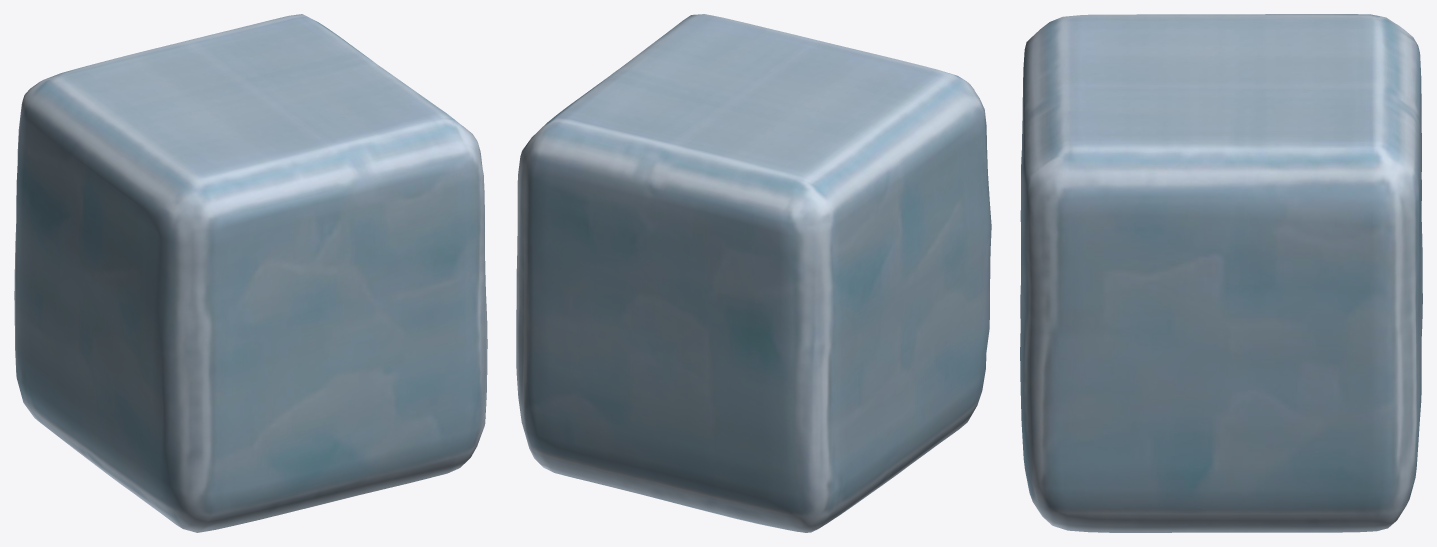
The model's file is 84135e3b6a40_2d8a3f5a2121_a_cube_of_ice_psone.glb.
3 renders of one model, left to right at view 1: azimuth 30°, elevation 25°; view 2: azimuth 150°, elevation 25°; view 3: azimuth 270°, elevation 25°, orthographic. The views are drawn at different scales.
Visible parts, largest first — view 1: mesh; view 2: mesh; view 3: mesh.
Part boxes in pixels (bbox=[...]): mesh: bbox=[14, 14, 487, 532]; mesh: bbox=[516, 14, 991, 532]; mesh: bbox=[1020, 14, 1422, 532].
Bounding box in the file's own units: 0.9372 × 0.9987 × 0.9382.
1 material, 1 textured.
